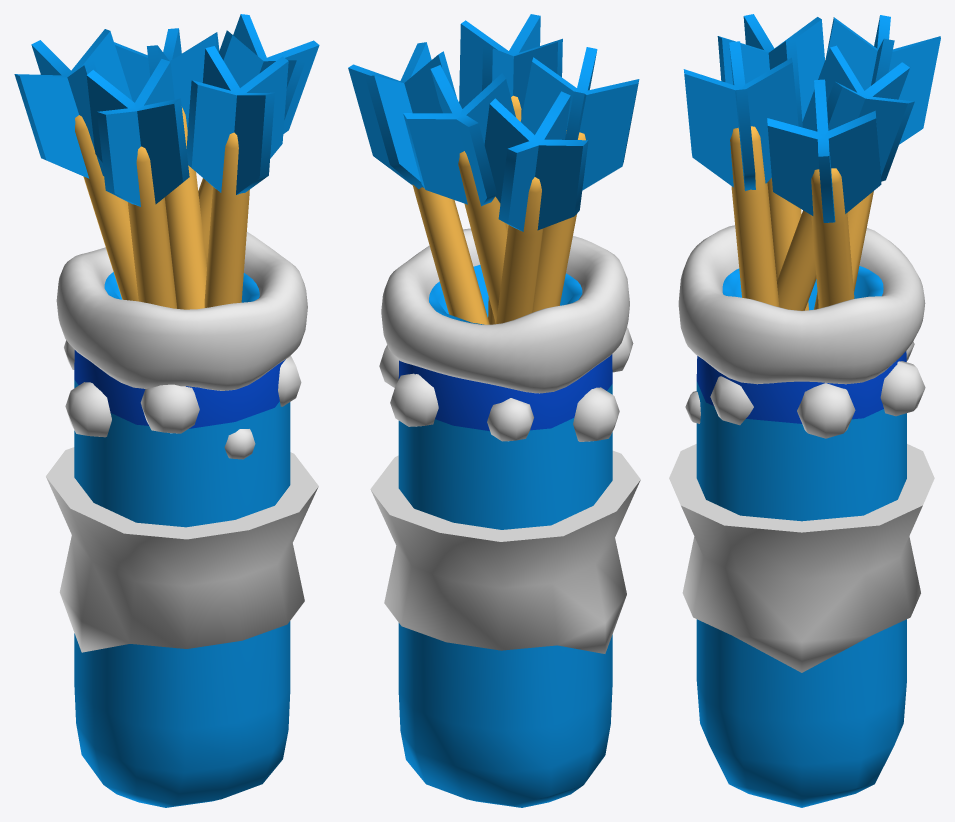
Rendered from fROST COLCHAN.fbx.
3 views of the same model, side by side, from view 1: azimuth 30°, elevation 25°; view 2: azimuth 150°, elevation 25°; view 3: azimuth 270°, elevation 25° (orthographic).
Visible parts, largest first — view 1: fROST COLCHAN; view 2: fROST COLCHAN; view 3: fROST COLCHAN.
Part boxes in pixels (x1,y1,x2,y2): fROST COLCHAN: [14, 14, 319, 807]; fROST COLCHAN: [348, 14, 640, 807]; fROST COLCHAN: [669, 14, 940, 807].
Bounding box in the file's own units: 2.9 × 7.7 × 2.56.
